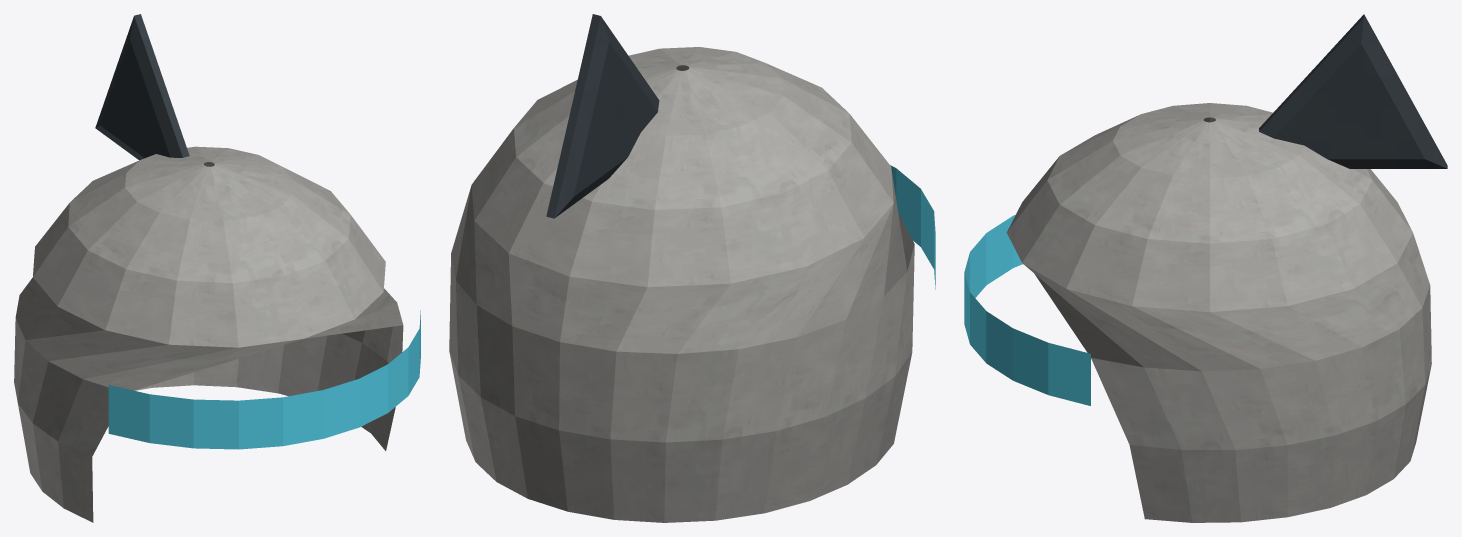
Rendered from eq_future_2_head.glb.
3 renders of one model, left to right at view 1: azimuth 30°, elevation 25°; view 2: azimuth 150°, elevation 25°; view 3: azimuth 270°, elevation 25°, orthographic. The views are drawn at different scales.
Parts seen in each view (by area): view 1: eq_future_2_head; view 2: eq_future_2_head; view 3: eq_future_2_head.
Boxes of the visible parts, x1,y1,x2,y2 form: eq_future_2_head: (14,14,420,522); eq_future_2_head: (449,14,935,522); eq_future_2_head: (964,14,1447,522).
Size of the model in its own units: 0.2934 by 0.3384 by 0.3472.
3 materials, 2 textured.
